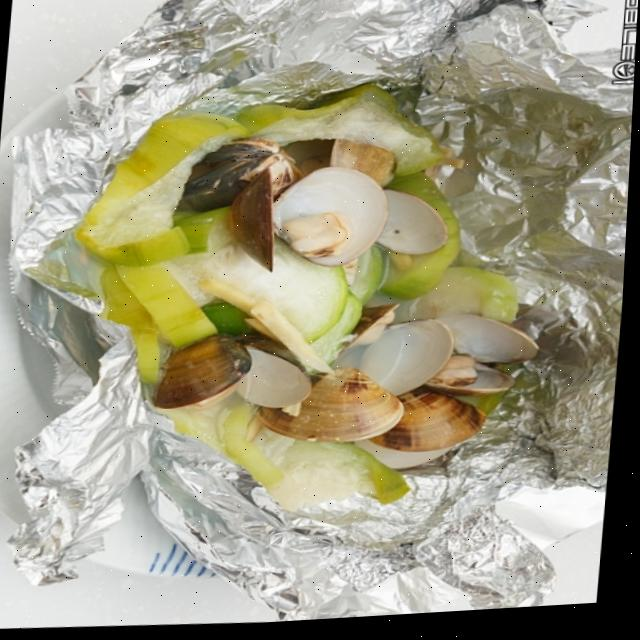Wet: (47, 32, 587, 517)
